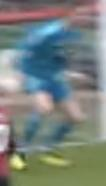goalkeeper: (4, 1, 106, 186)
